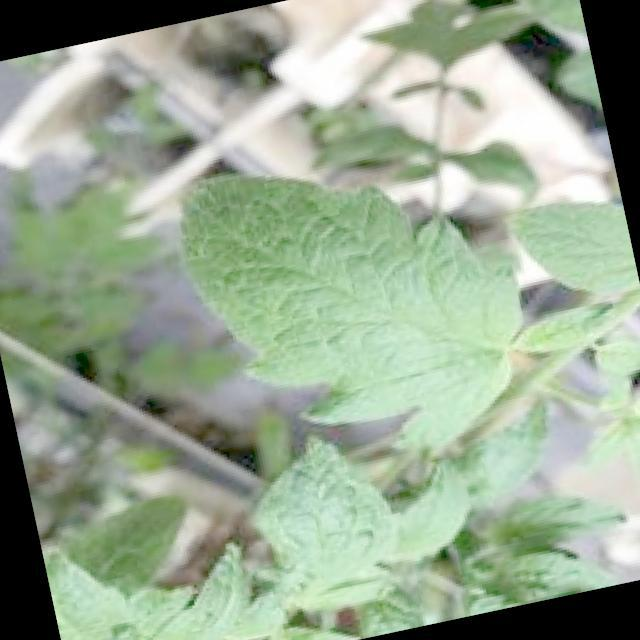Tomato healthy leaf: (177, 169, 524, 445), (45, 420, 474, 640), (508, 199, 640, 294)
